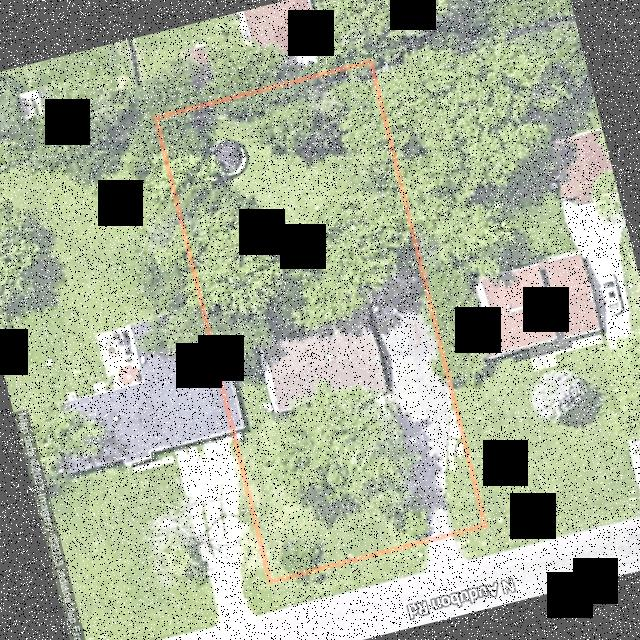Driveway: (370, 297, 463, 536)
Extra Driveway: (424, 535, 469, 570)
Extra Lawn: (270, 541, 427, 609), (451, 528, 492, 558)
House: (258, 315, 385, 415)
Other: (209, 138, 248, 177)
